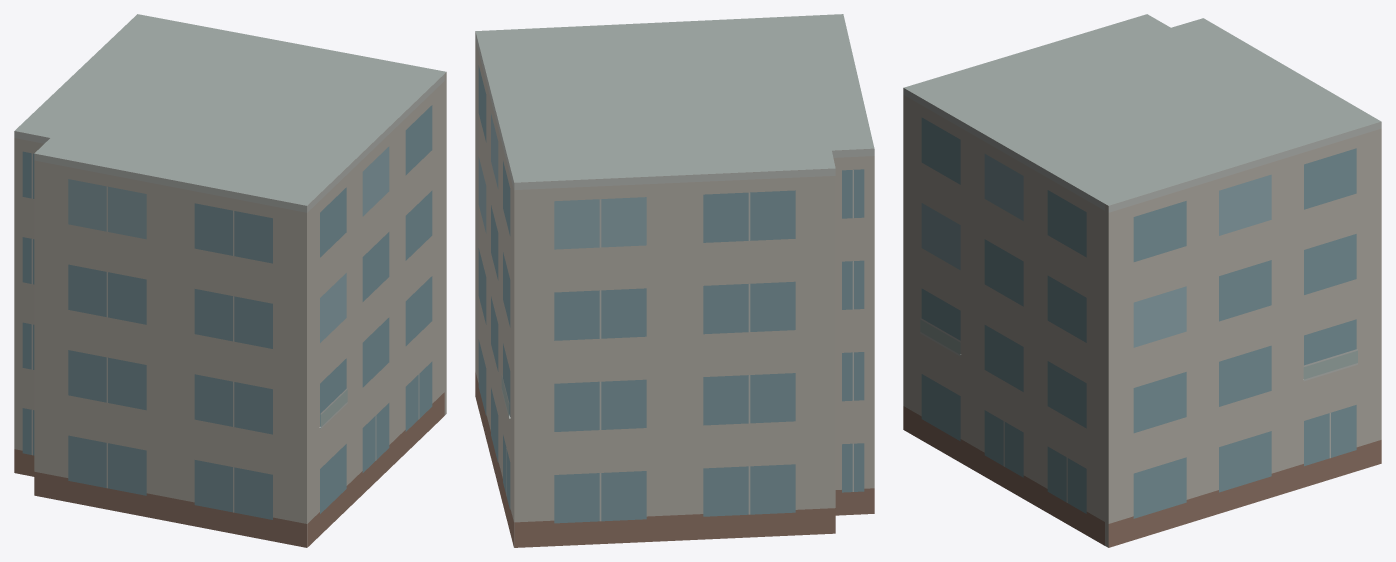
File: survey-upis-32509533.glb
The picture shows the model from 3 angles, left to right: view 1: azimuth 30°, elevation 25°; view 2: azimuth 150°, elevation 25°; view 3: azimuth 270°, elevation 25°; orthographic projection. The views are drawn at different scales.
Visible parts, largest first — view 1: survey-upis-32509533.tmp; view 2: survey-upis-32509533.tmp; view 3: survey-upis-32509533.tmp.
Boxes of the visible parts, <box> form: survey-upis-32509533.tmp: <box>14,14,446,547</box>; survey-upis-32509533.tmp: <box>475,14,874,547</box>; survey-upis-32509533.tmp: <box>903,14,1381,547</box>.
Bounding box in the file's own units: 14.38 × 11.95 × 15.15.
